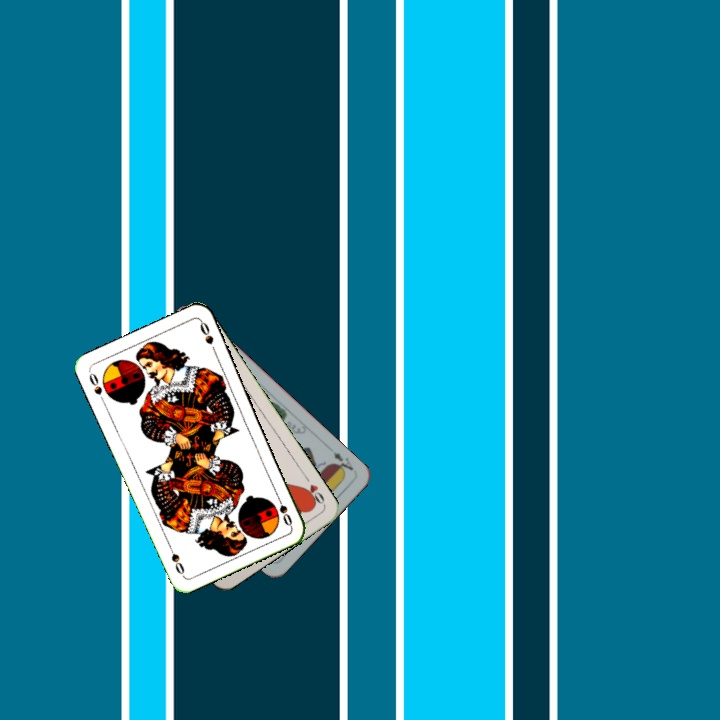EA: (328, 448, 356, 477)
HO: (298, 471, 328, 508)
SO: (272, 490, 295, 529), (85, 368, 108, 406)
